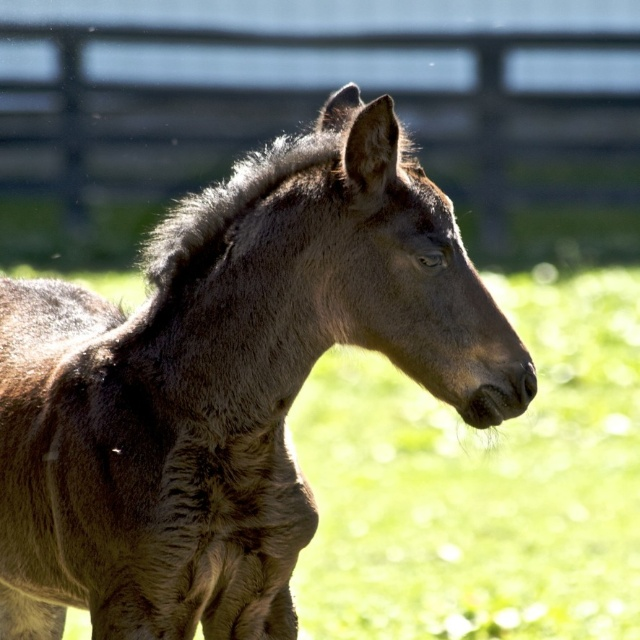Horse: (0, 78, 538, 639)
